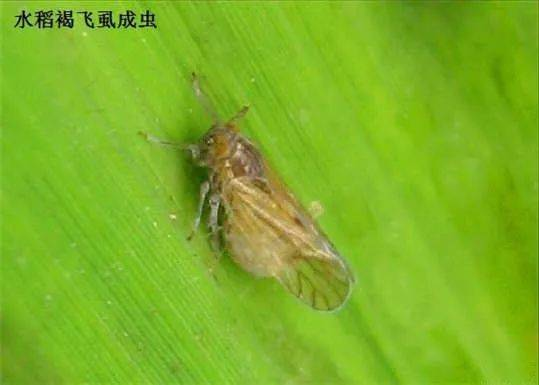Delphacidae: (136, 71, 357, 313)
